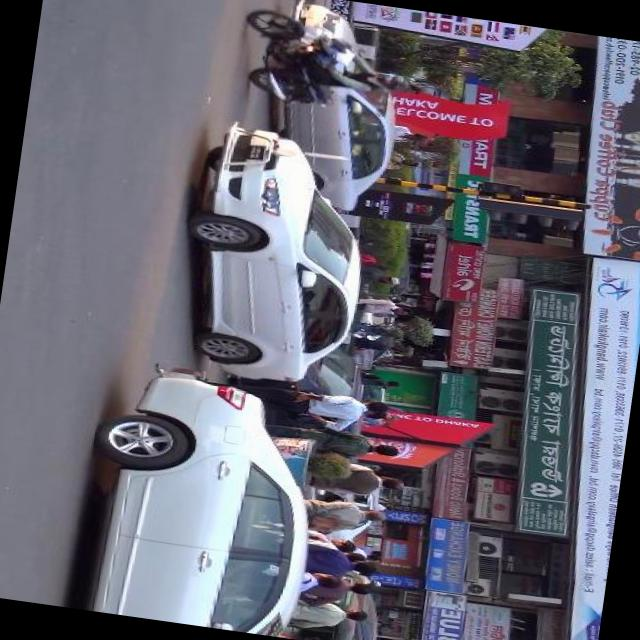car: (68, 358, 334, 640), (163, 113, 383, 394)
motorcycle: (232, 8, 416, 118)
